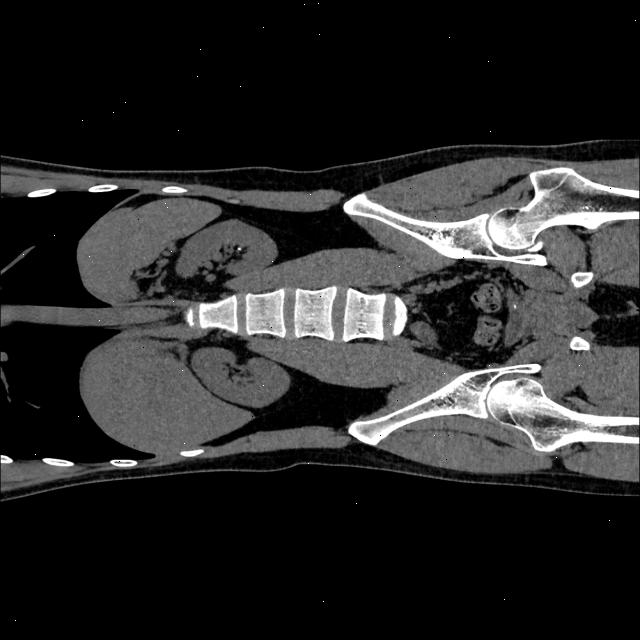kidneystone: (228, 244, 247, 250)
